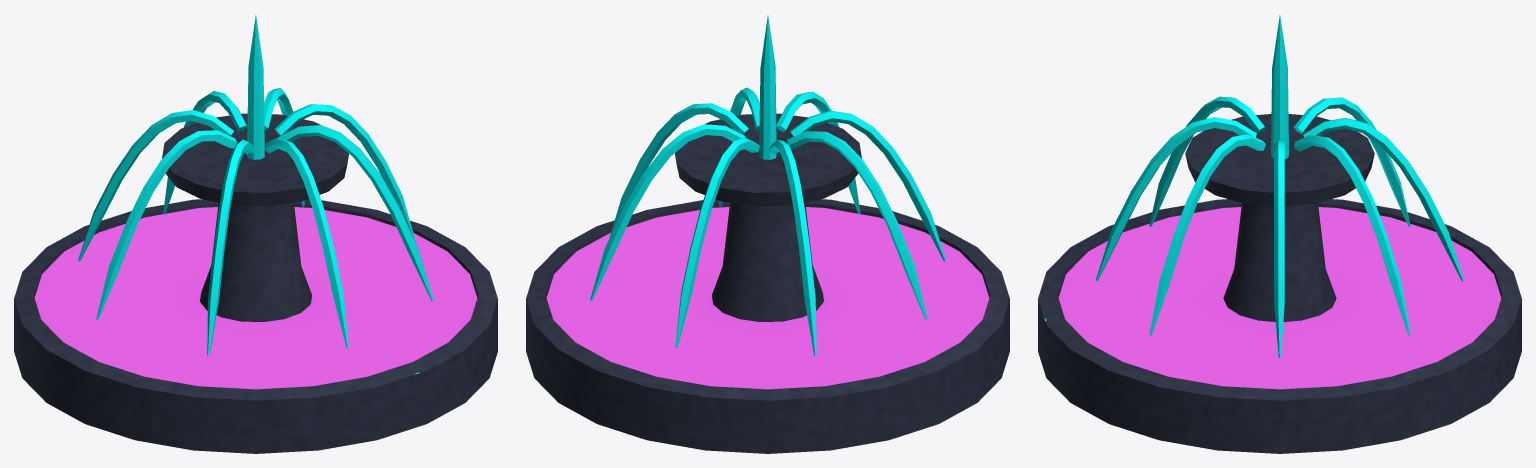
File: holo_fountain.fbx
The picture shows the model from 3 angles, left to right: view 1: azimuth 30°, elevation 25°; view 2: azimuth 150°, elevation 25°; view 3: azimuth 270°, elevation 25°; orthographic projection.
Visible parts, largest first — view 1: holo_fountain, holo_fountain_glow2, holo_fountain_glow; view 2: holo_fountain, holo_fountain_glow2, holo_fountain_glow; view 3: holo_fountain, holo_fountain_glow2, holo_fountain_glow.
Part boxes in pixels (x1,y1,x2,y2): holo_fountain: [14, 113, 497, 453]; holo_fountain_glow2: [34, 207, 477, 389]; holo_fountain_glow: [78, 15, 433, 355]; holo_fountain: [526, 113, 1009, 453]; holo_fountain_glow2: [546, 207, 989, 389]; holo_fountain_glow: [590, 15, 945, 355]; holo_fountain: [1038, 114, 1521, 453]; holo_fountain_glow2: [1058, 207, 1501, 389]; holo_fountain_glow: [1096, 15, 1463, 357].
Size of the model in its own units: 740 by 570 by 740.
Materials: 1 (1 with a texture image).
